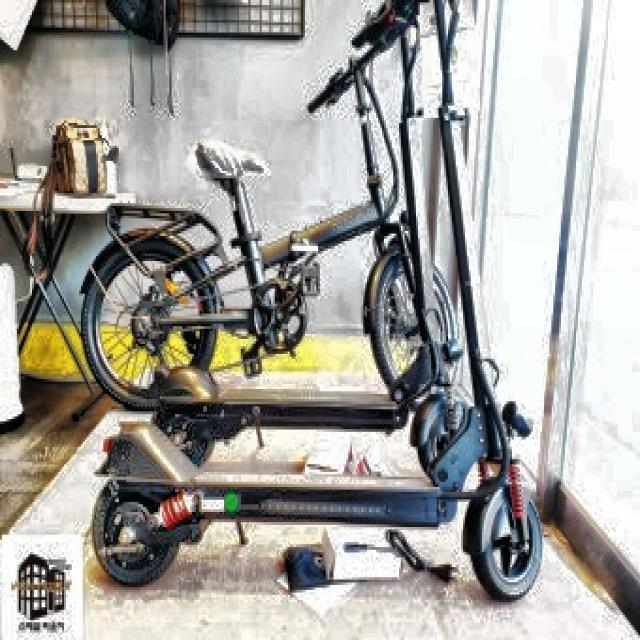bike: (76, 1, 546, 606)
car: (79, 4, 546, 600)
